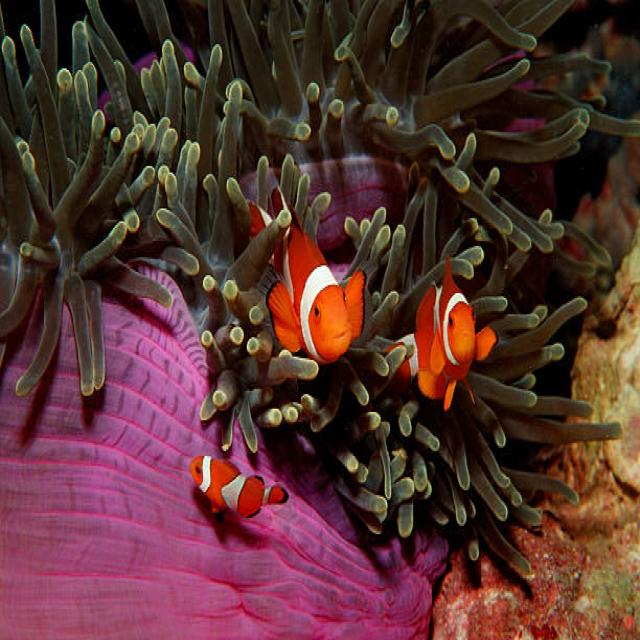ClownFish: (239, 174, 365, 380), (388, 236, 498, 401), (190, 451, 290, 523)
